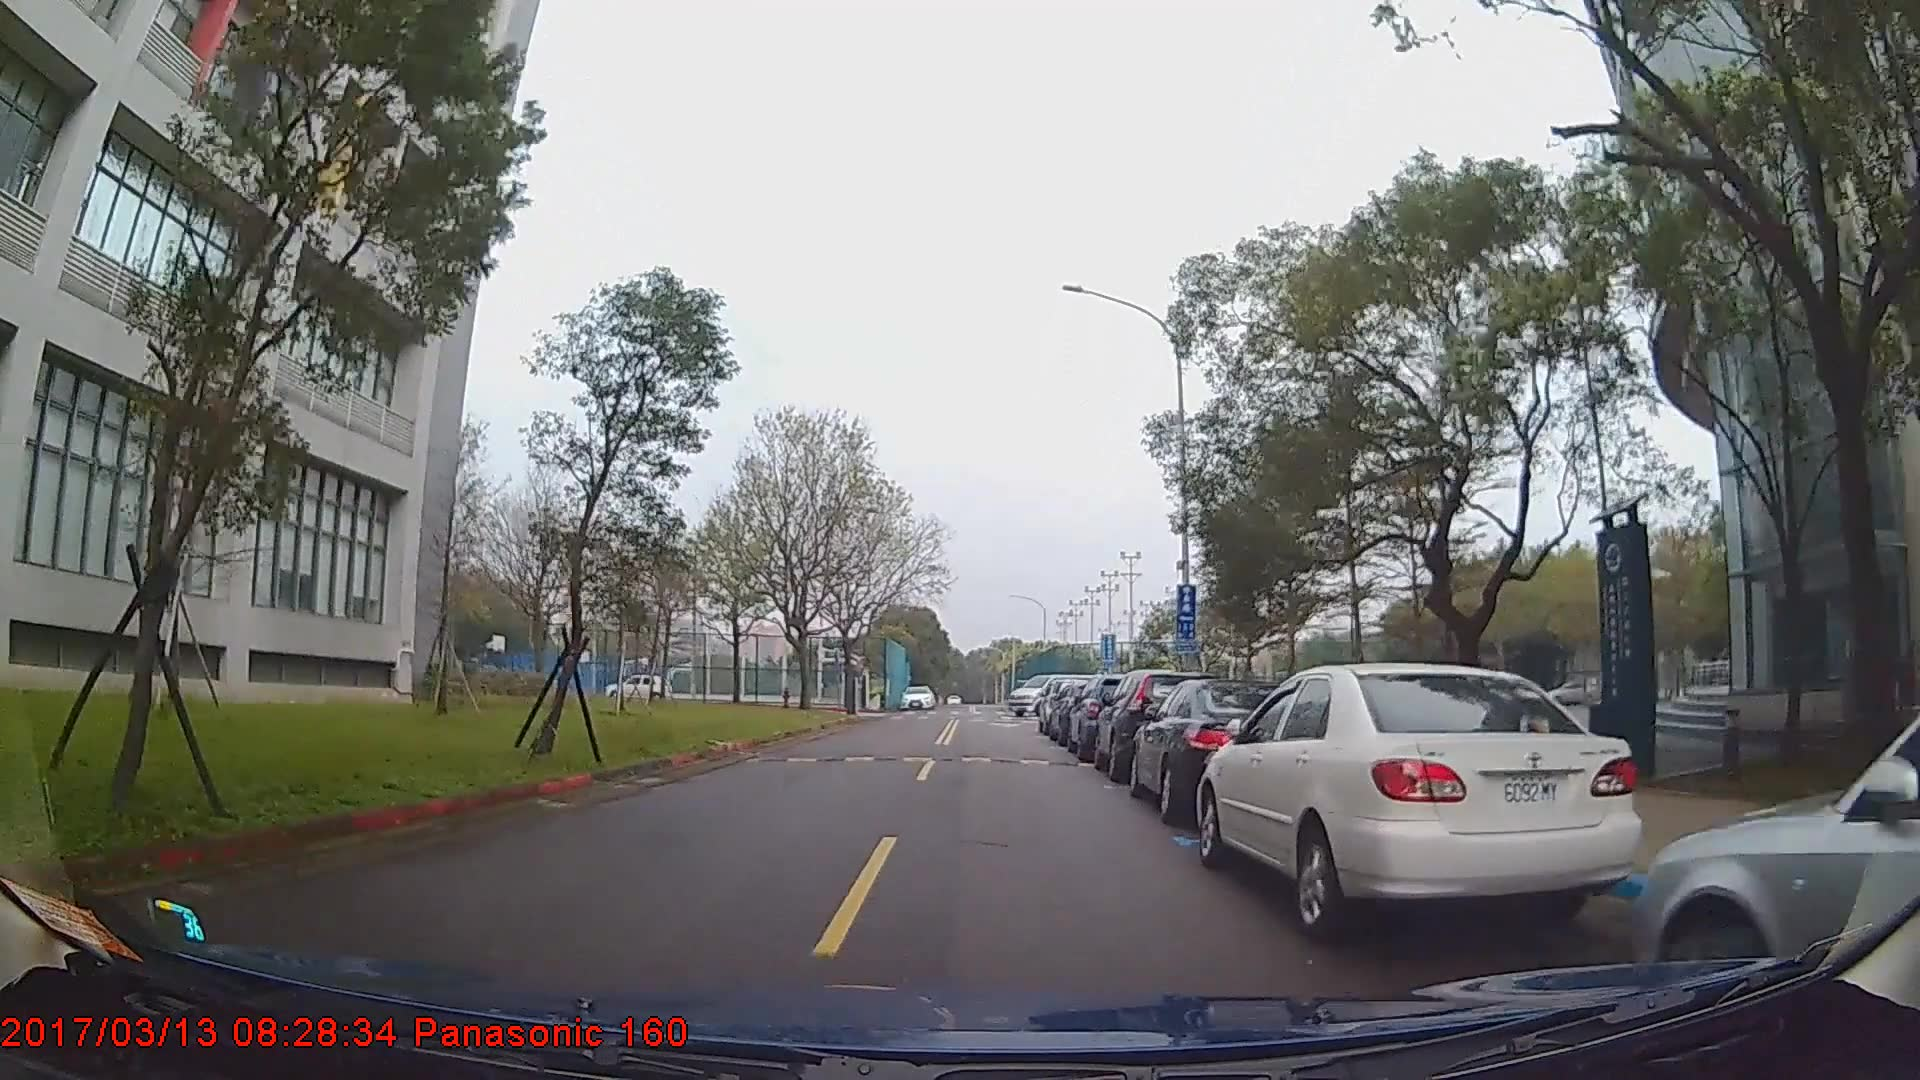vehicle: (1196, 659, 1644, 942), (1636, 713, 1920, 1014), (1131, 674, 1312, 824), (1092, 669, 1224, 782), (603, 671, 671, 700), (899, 683, 934, 707)
